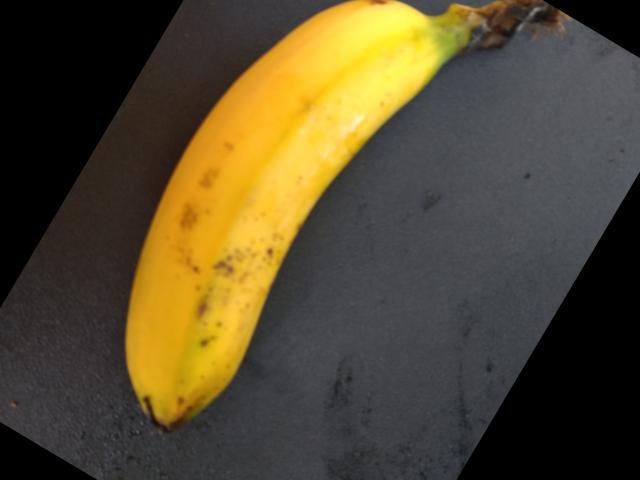ripe: (121, 28, 442, 431)
